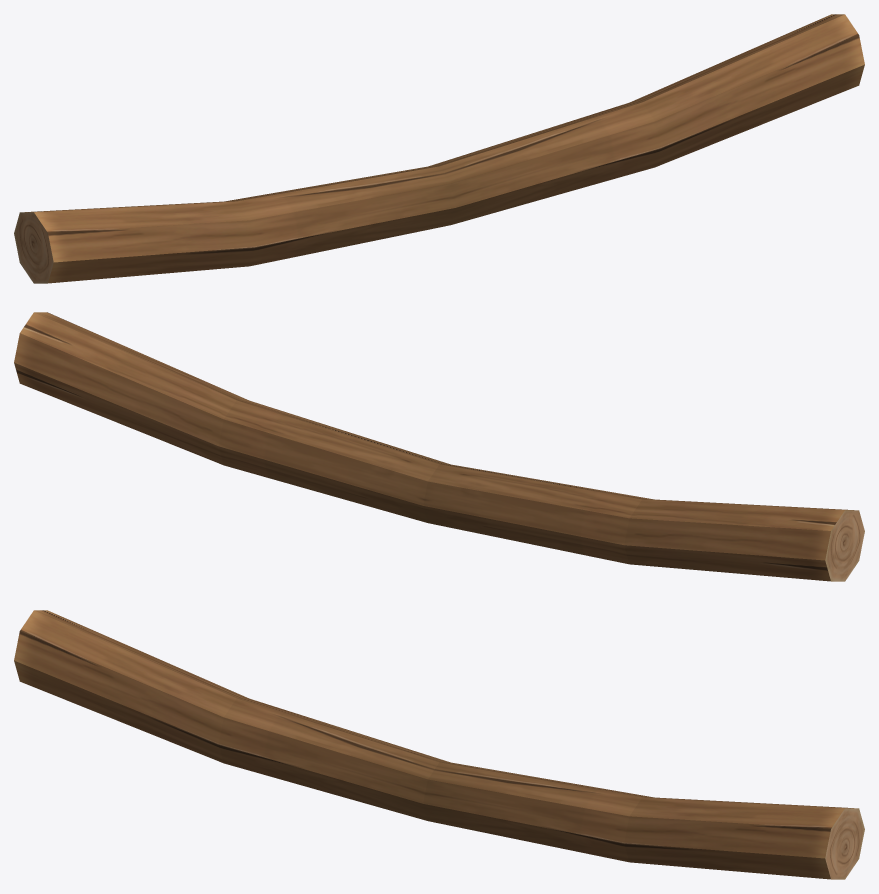
The picture shows the model from 3 angles, top to bottom: view 1: azimuth 30°, elevation 25°; view 2: azimuth 150°, elevation 25°; view 3: azimuth 330°, elevation 25°; orthographic projection.
Visible parts, largest first — view 1: part_12a:Mesh; view 2: part_12a:Mesh; view 3: part_12a:Mesh.
Part boxes in pixels (<box>): part_12a:Mesh: <box>14,14,864,283</box>; part_12a:Mesh: <box>14,312,864,581</box>; part_12a:Mesh: <box>14,610,864,879</box>.
Bounding box in the file's own units: 6.75 × 0.8911 × 0.5734.
